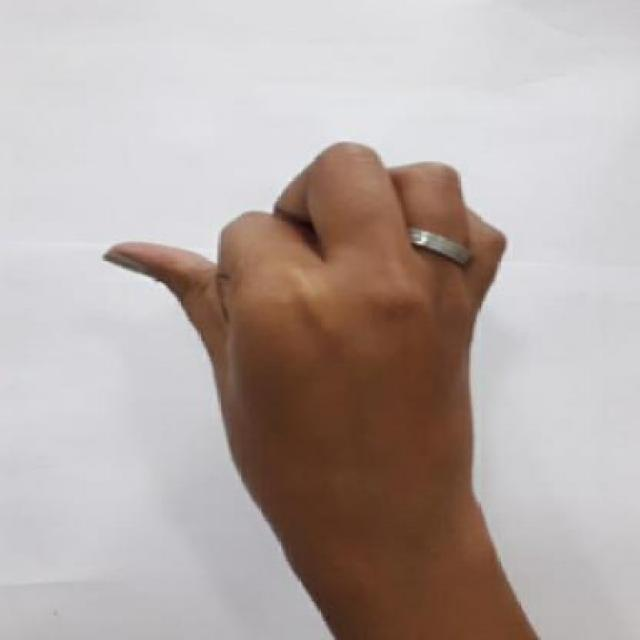without_gloves: (89, 128, 543, 584)
